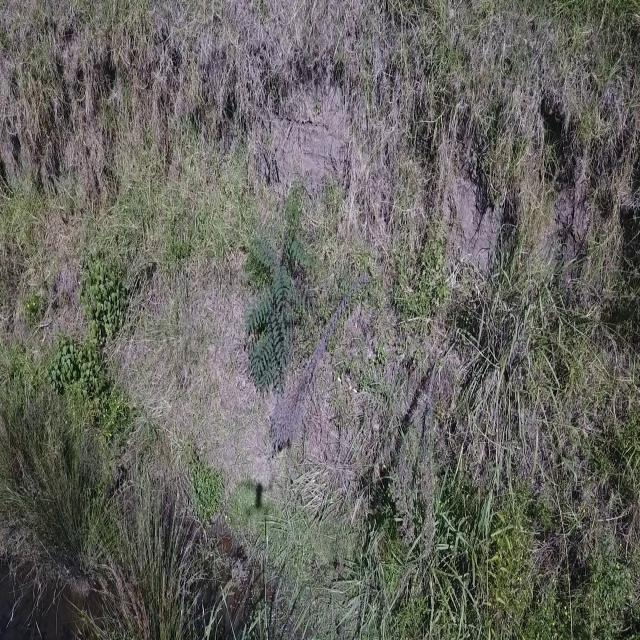Mysore-Thorn-Weed: (245, 233, 316, 394)
